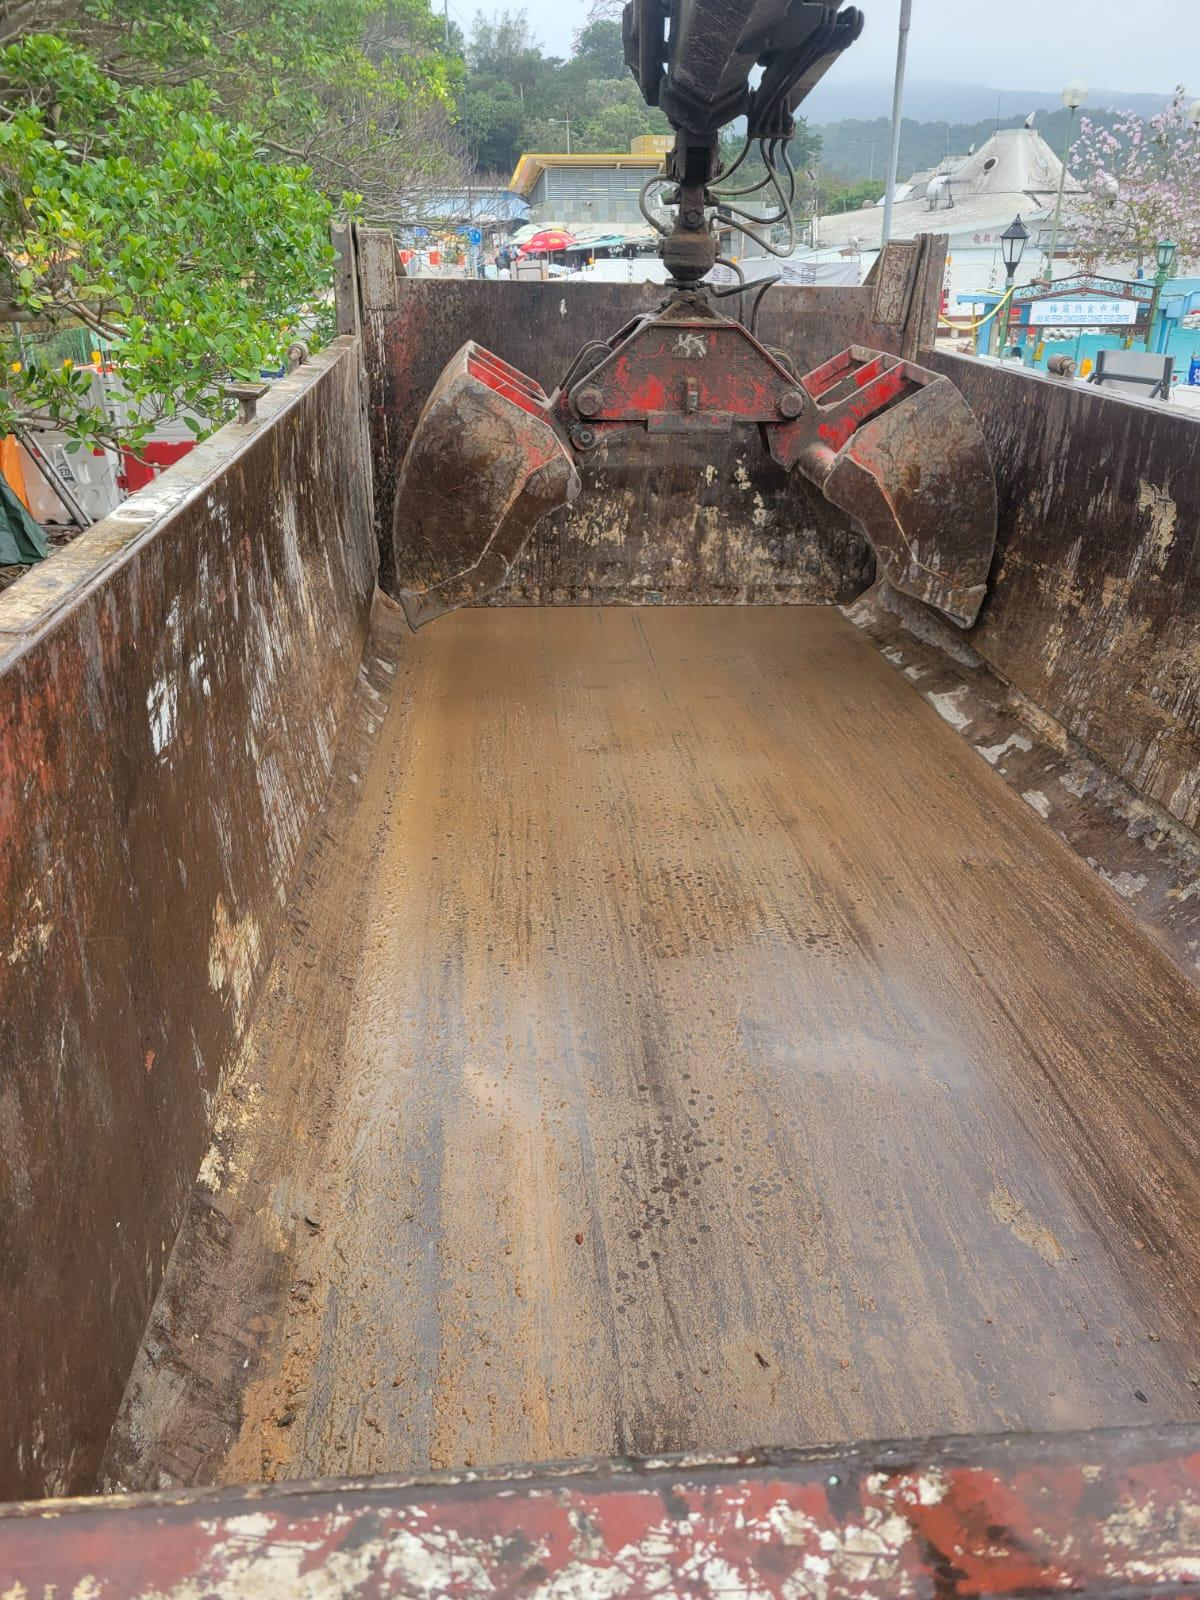nothing: (168, 602, 1200, 1483)
